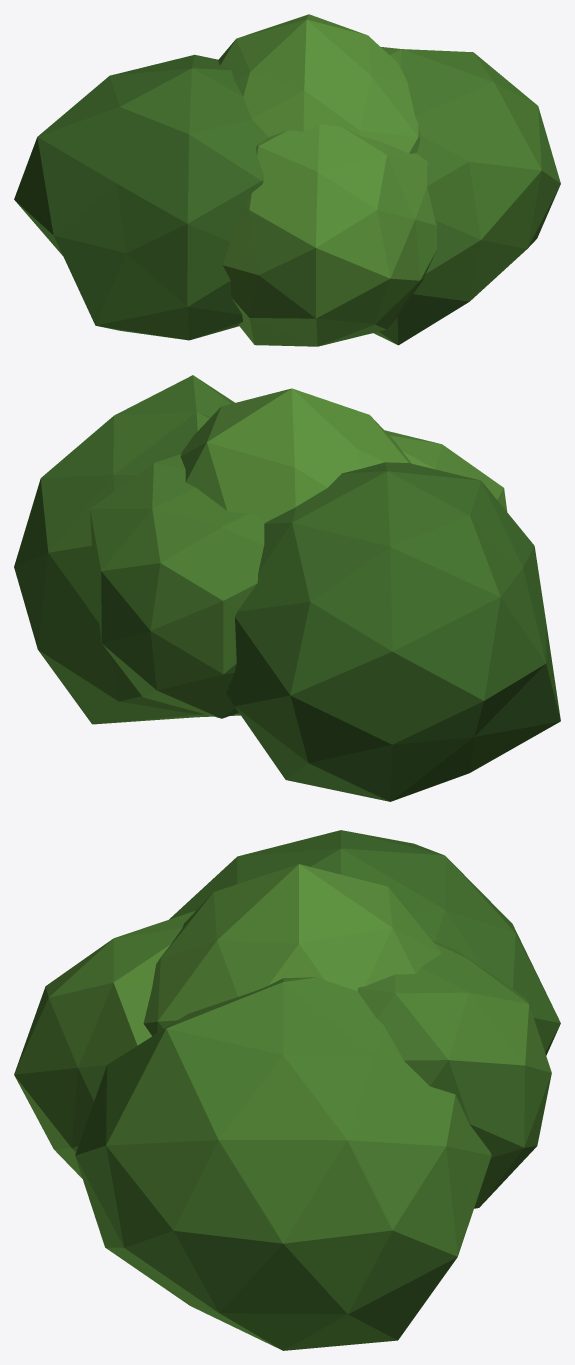
The model's file is bush_2.glb.
The picture shows the model from 3 angles, top to bottom: view 1: azimuth 30°, elevation 25°; view 2: azimuth 150°, elevation 25°; view 3: azimuth 270°, elevation 25°; orthographic projection. The views are drawn at different scales.
Visible parts, largest first — view 1: crown; view 2: crown; view 3: crown.
Boxes of the visible parts, <box> form: crown: <box>14,14,560,346</box>; crown: <box>14,375,560,801</box>; crown: <box>14,830,560,1350</box>.
Bounding box in the file's own units: 1.05 × 0.6743 × 0.8182.
